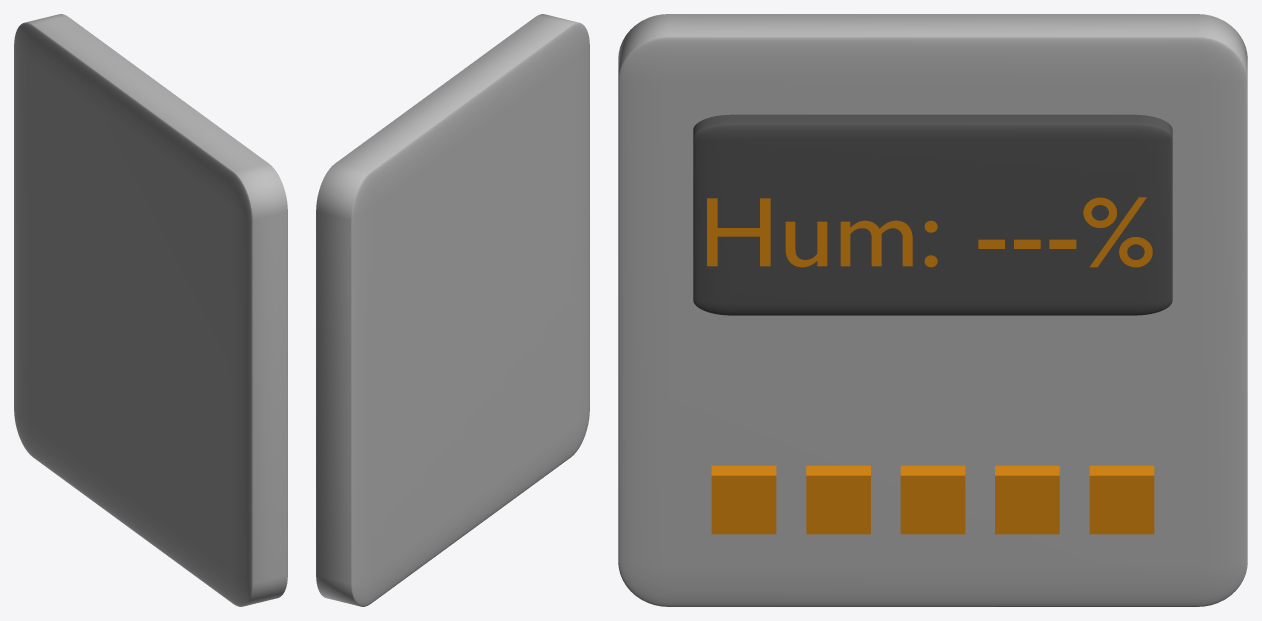
The model's file is HumiditySensor.fbx.
3 views of the same model, side by side, from view 1: azimuth 30°, elevation 25°; view 2: azimuth 150°, elevation 25°; view 3: azimuth 270°, elevation 25° (orthographic). The views are drawn at different scales.
Visible parts, largest first — view 1: Cube; view 2: Cube; view 3: Cube, Cube.006, Text, Cube.001, Cube.003, Cube.005, Cube.002, Cube.004.
Part boxes in pixels (<box>): Cube: <box>14,14,287,606</box>; Cube: <box>316,14,589,606</box>; Cube: <box>618,14,1247,606</box>; Cube.006: <box>693,114,1172,315</box>; Text: <box>707,197,1152,267</box>; Cube.001: <box>711,465,776,534</box>; Cube.003: <box>900,465,965,534</box>; Cube.005: <box>1089,465,1154,534</box>; Cube.002: <box>806,465,870,534</box>; Cube.004: <box>995,465,1059,534</box>.
Bounding box in the file's own units: 5.7 × 40 × 40.
